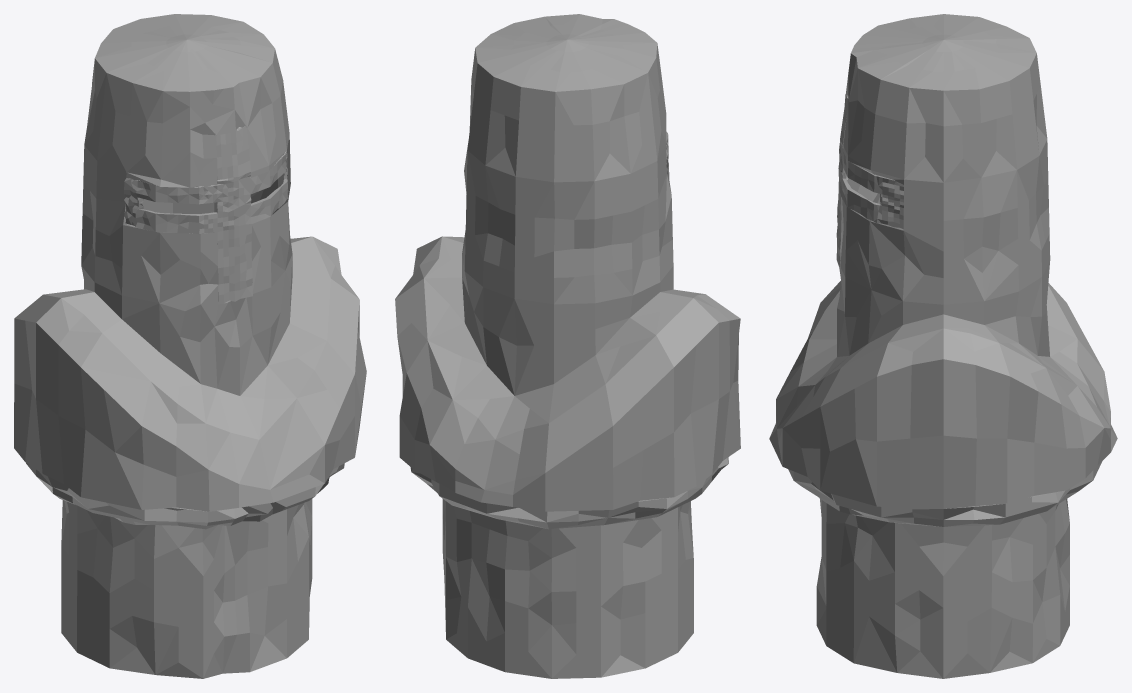
The model's file is knight.fbx.
3 renders of one model, left to right at view 1: azimuth 30°, elevation 25°; view 2: azimuth 150°, elevation 25°; view 3: azimuth 270°, elevation 25°, orthographic.
Visible parts, largest first — view 1: Knight, KnightMask; view 2: Knight; view 3: Knight, KnightMask.
Boxes of the visible parts, left/top/right/bottom form: Knight: left=14, top=14, right=366, bottom=678; KnightMask: left=124, top=126, right=288, bottom=304; Knight: left=395, top=14, right=740, bottom=678; Knight: left=769, top=14, right=1117, bottom=678; KnightMask: left=836, top=94, right=903, bottom=268.
Size of the model in its own units: 109 by 202 by 109.
